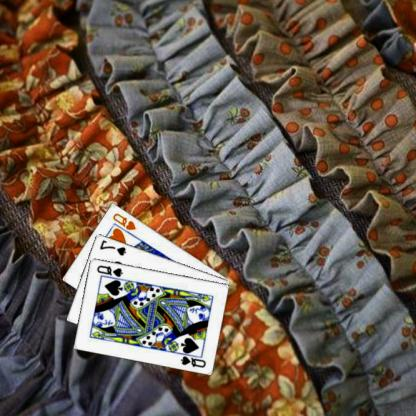7S: (98, 236, 128, 256)
QH: (112, 210, 139, 231)
QS: (96, 262, 126, 278), (180, 353, 209, 368)
